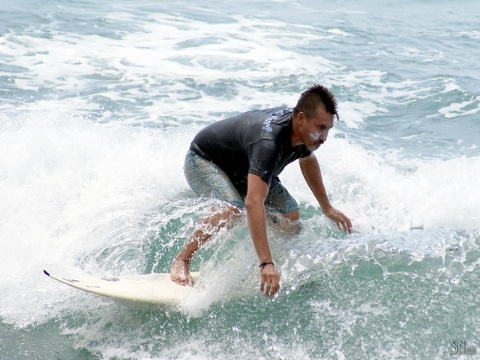hand: (323, 206, 352, 235), (259, 263, 281, 299)
